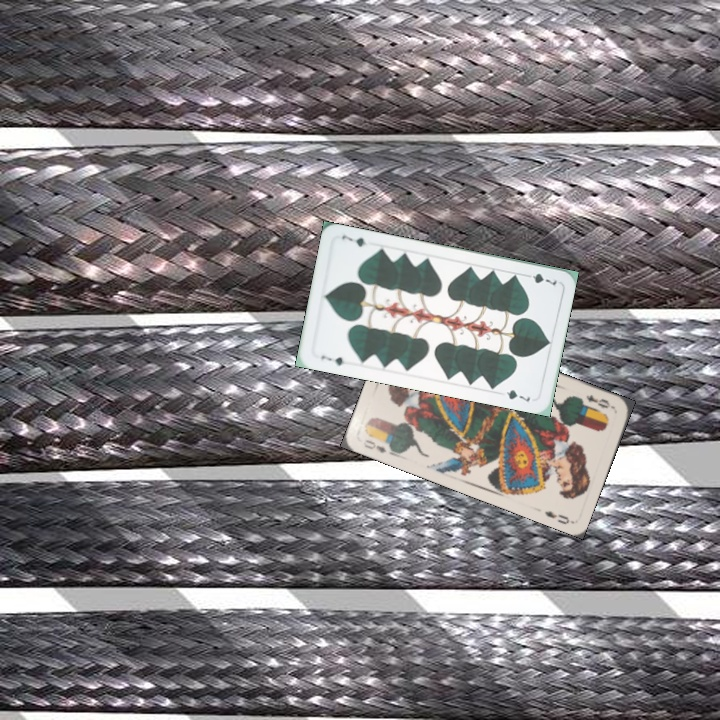EO: (359, 435, 397, 458), (582, 390, 616, 411)
G7: (520, 269, 559, 288), (317, 351, 347, 368)
